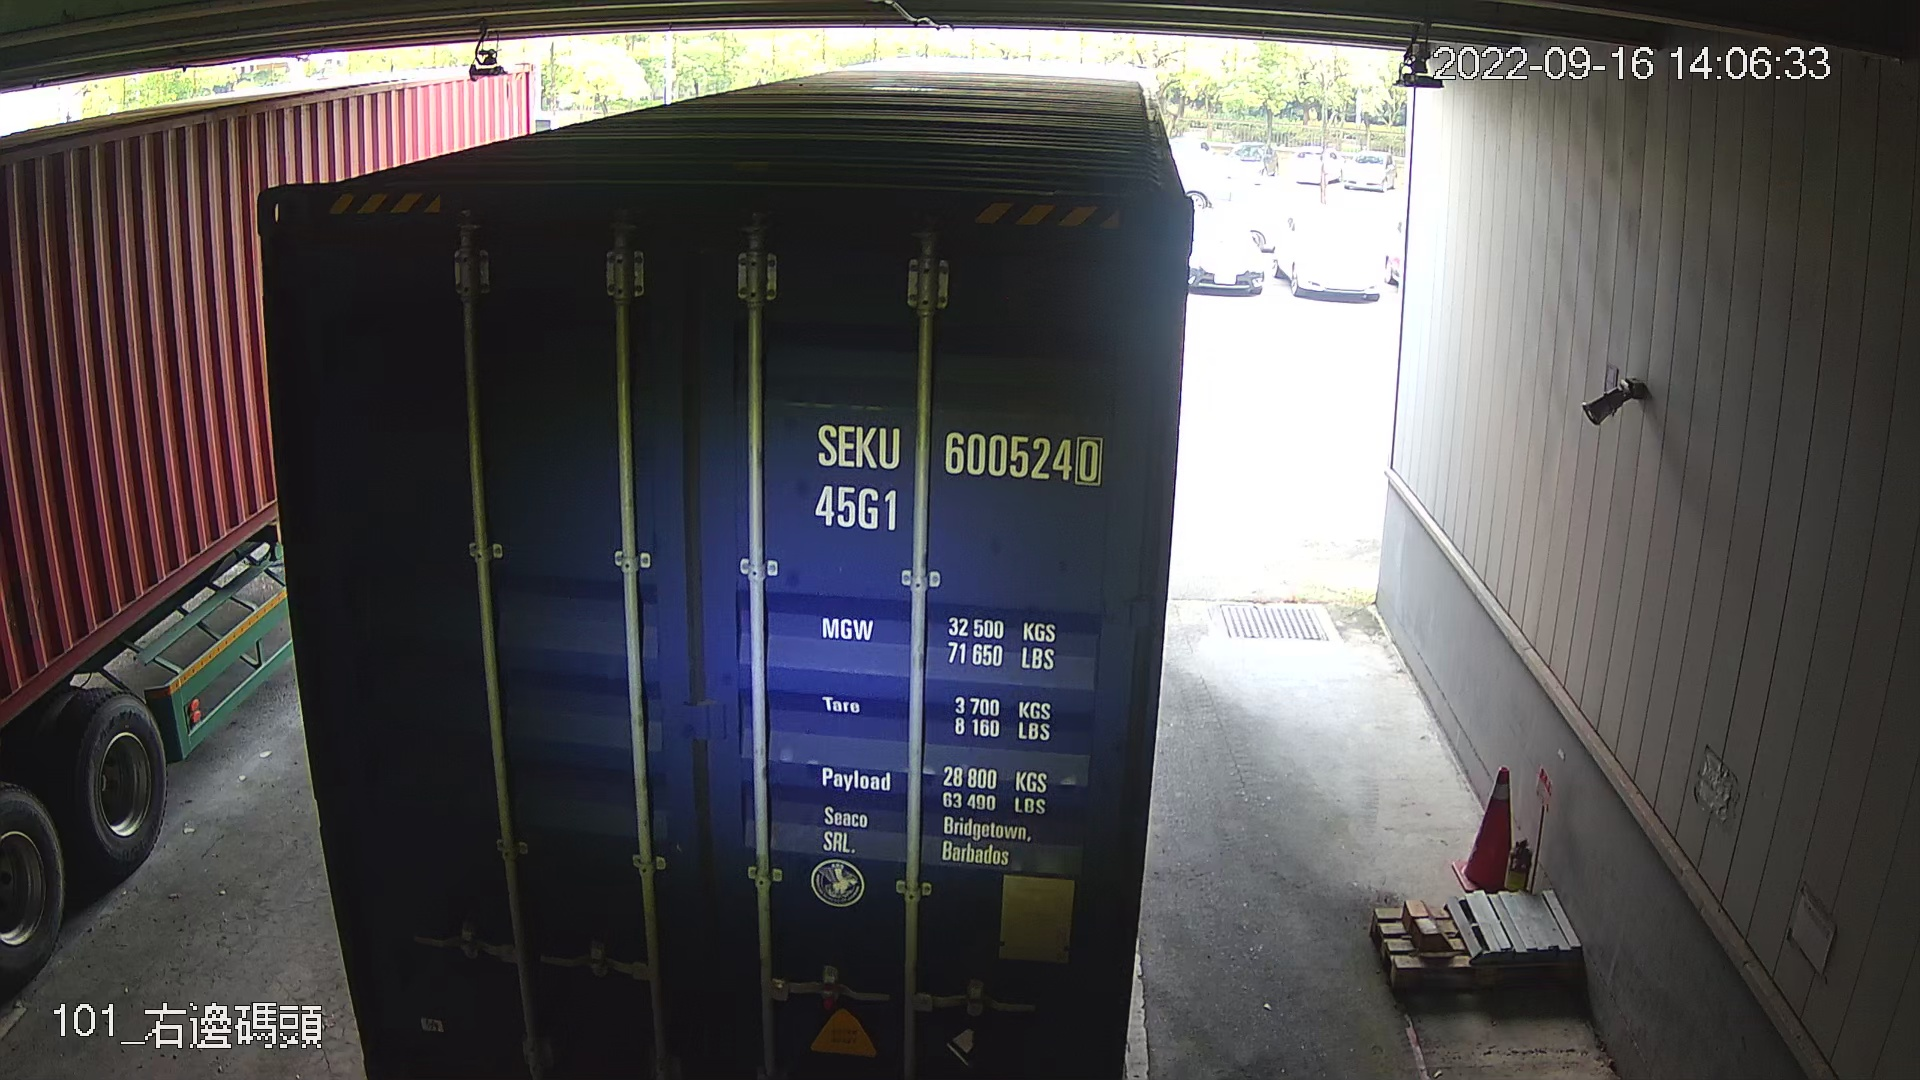container: (807, 415, 1113, 542)
